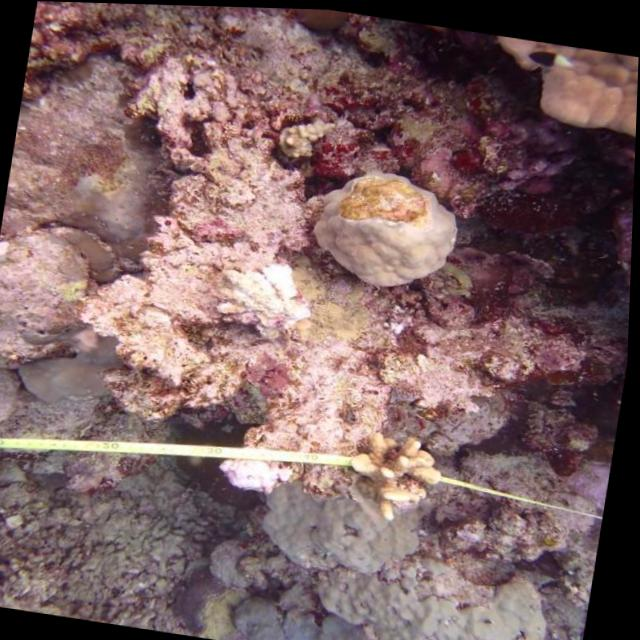Bleached Coral: (501, 34, 639, 159), (215, 244, 334, 356)
